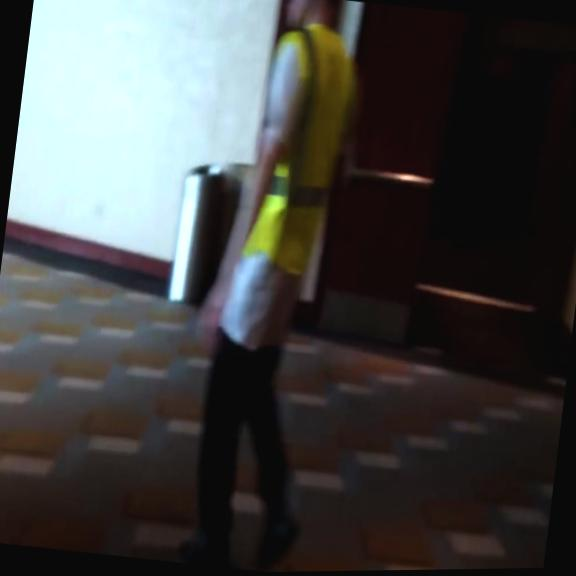safety_vest: (240, 17, 360, 282)
